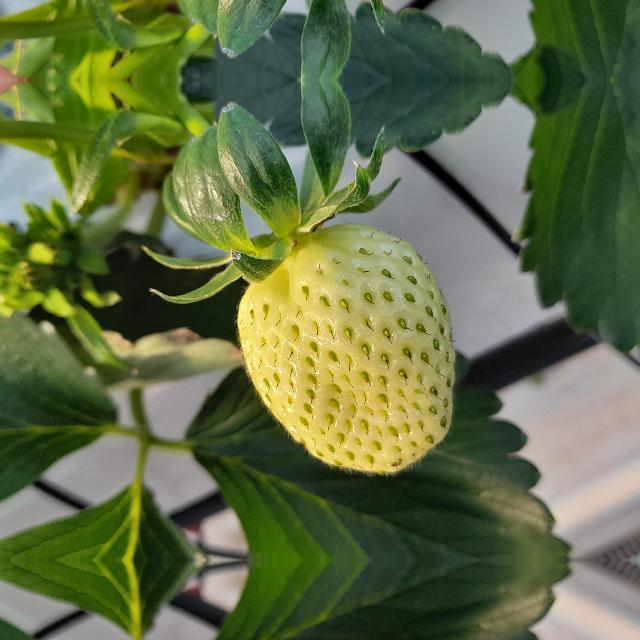Health_25: (234, 222, 456, 478)
